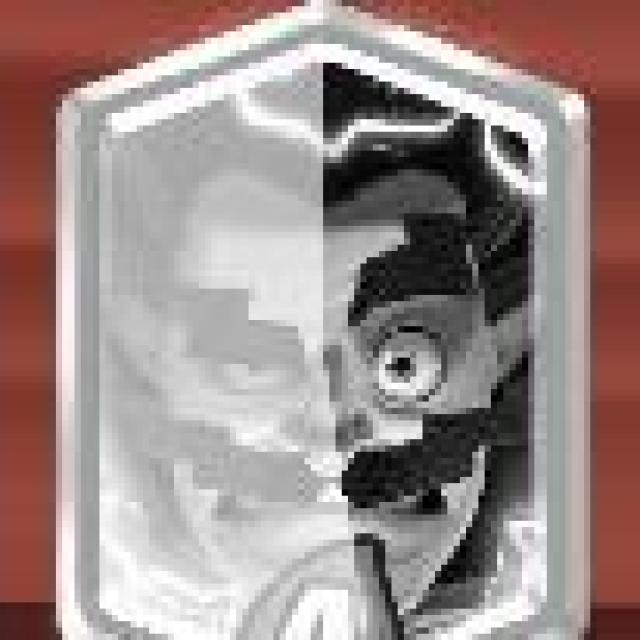Electro_Wizard: (56, 0, 594, 640)
